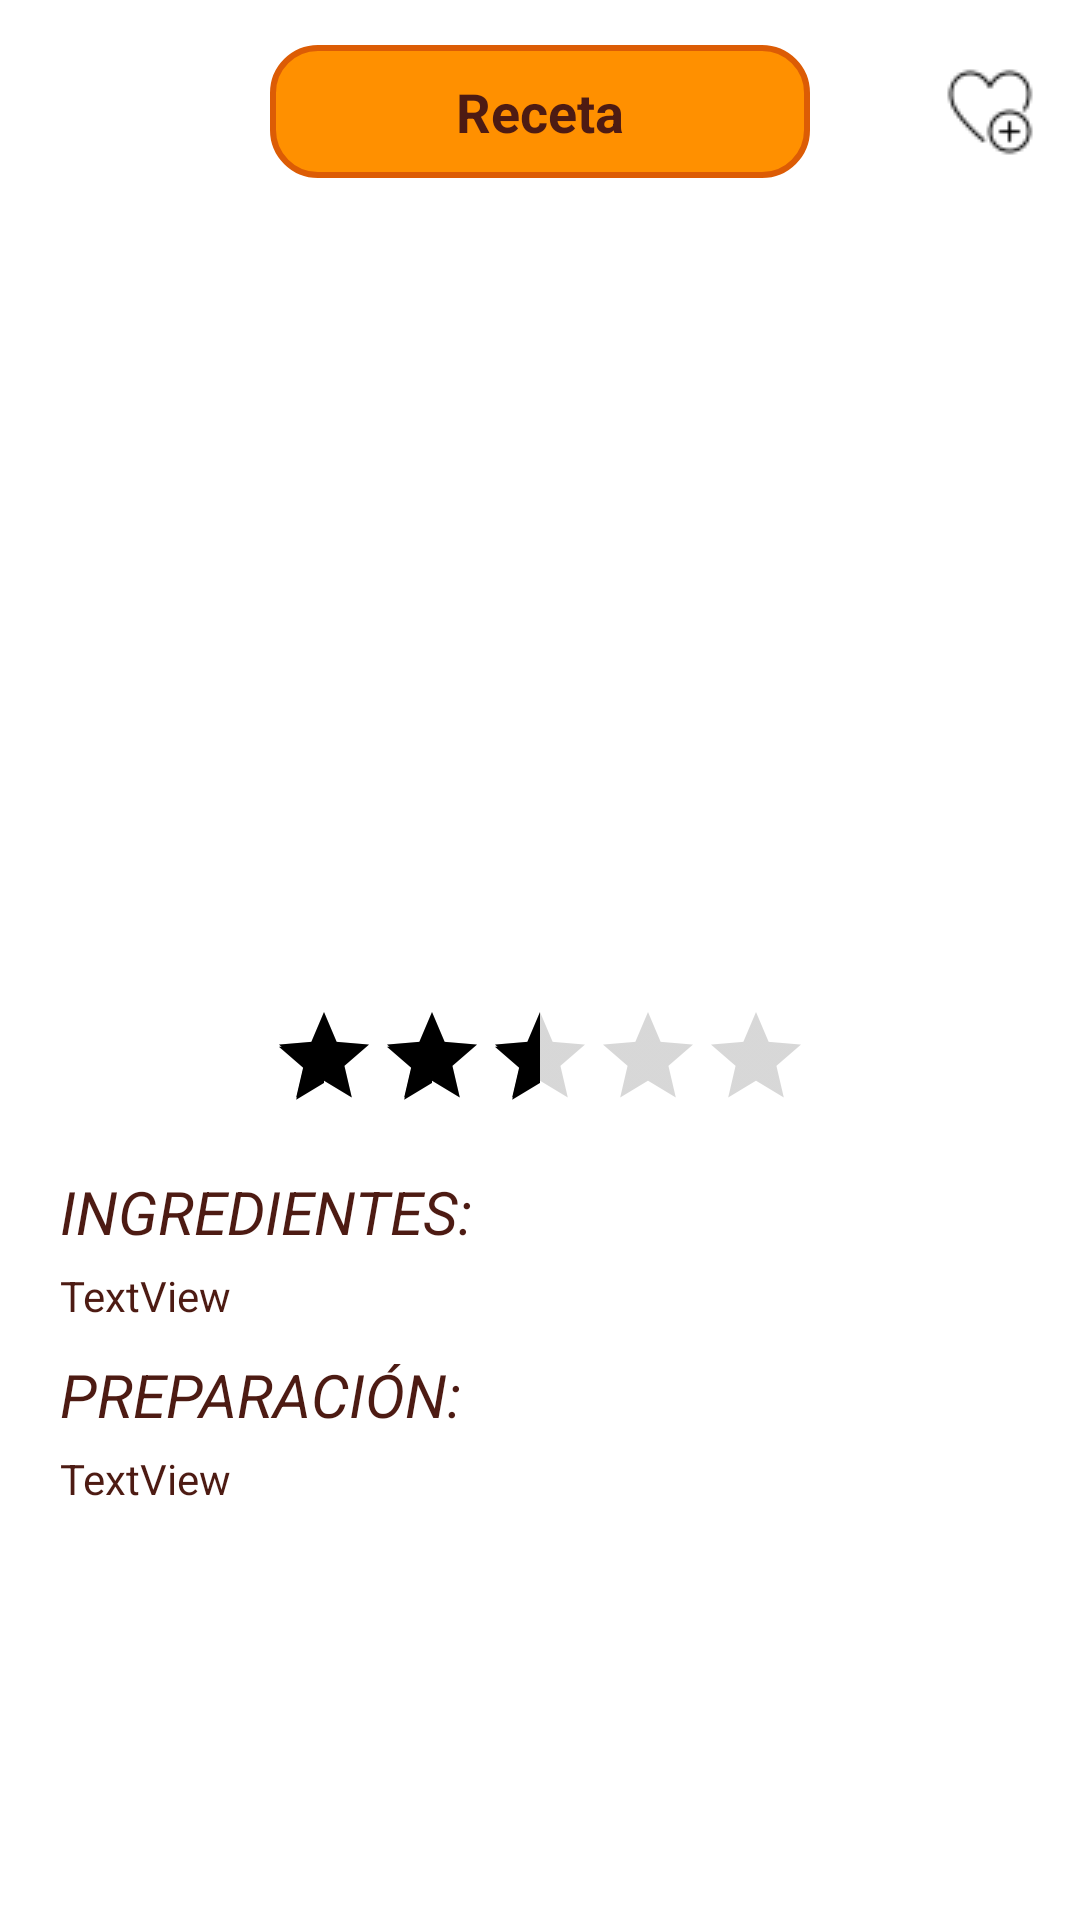

Icons on this 1080px×1920px Android screen, each with its box as {"x1": x1, "y1": y1, "x2": x2, "y2": y2}:
heart: {"x1": 947, "y1": 69, "x2": 1033, "y2": 155}
